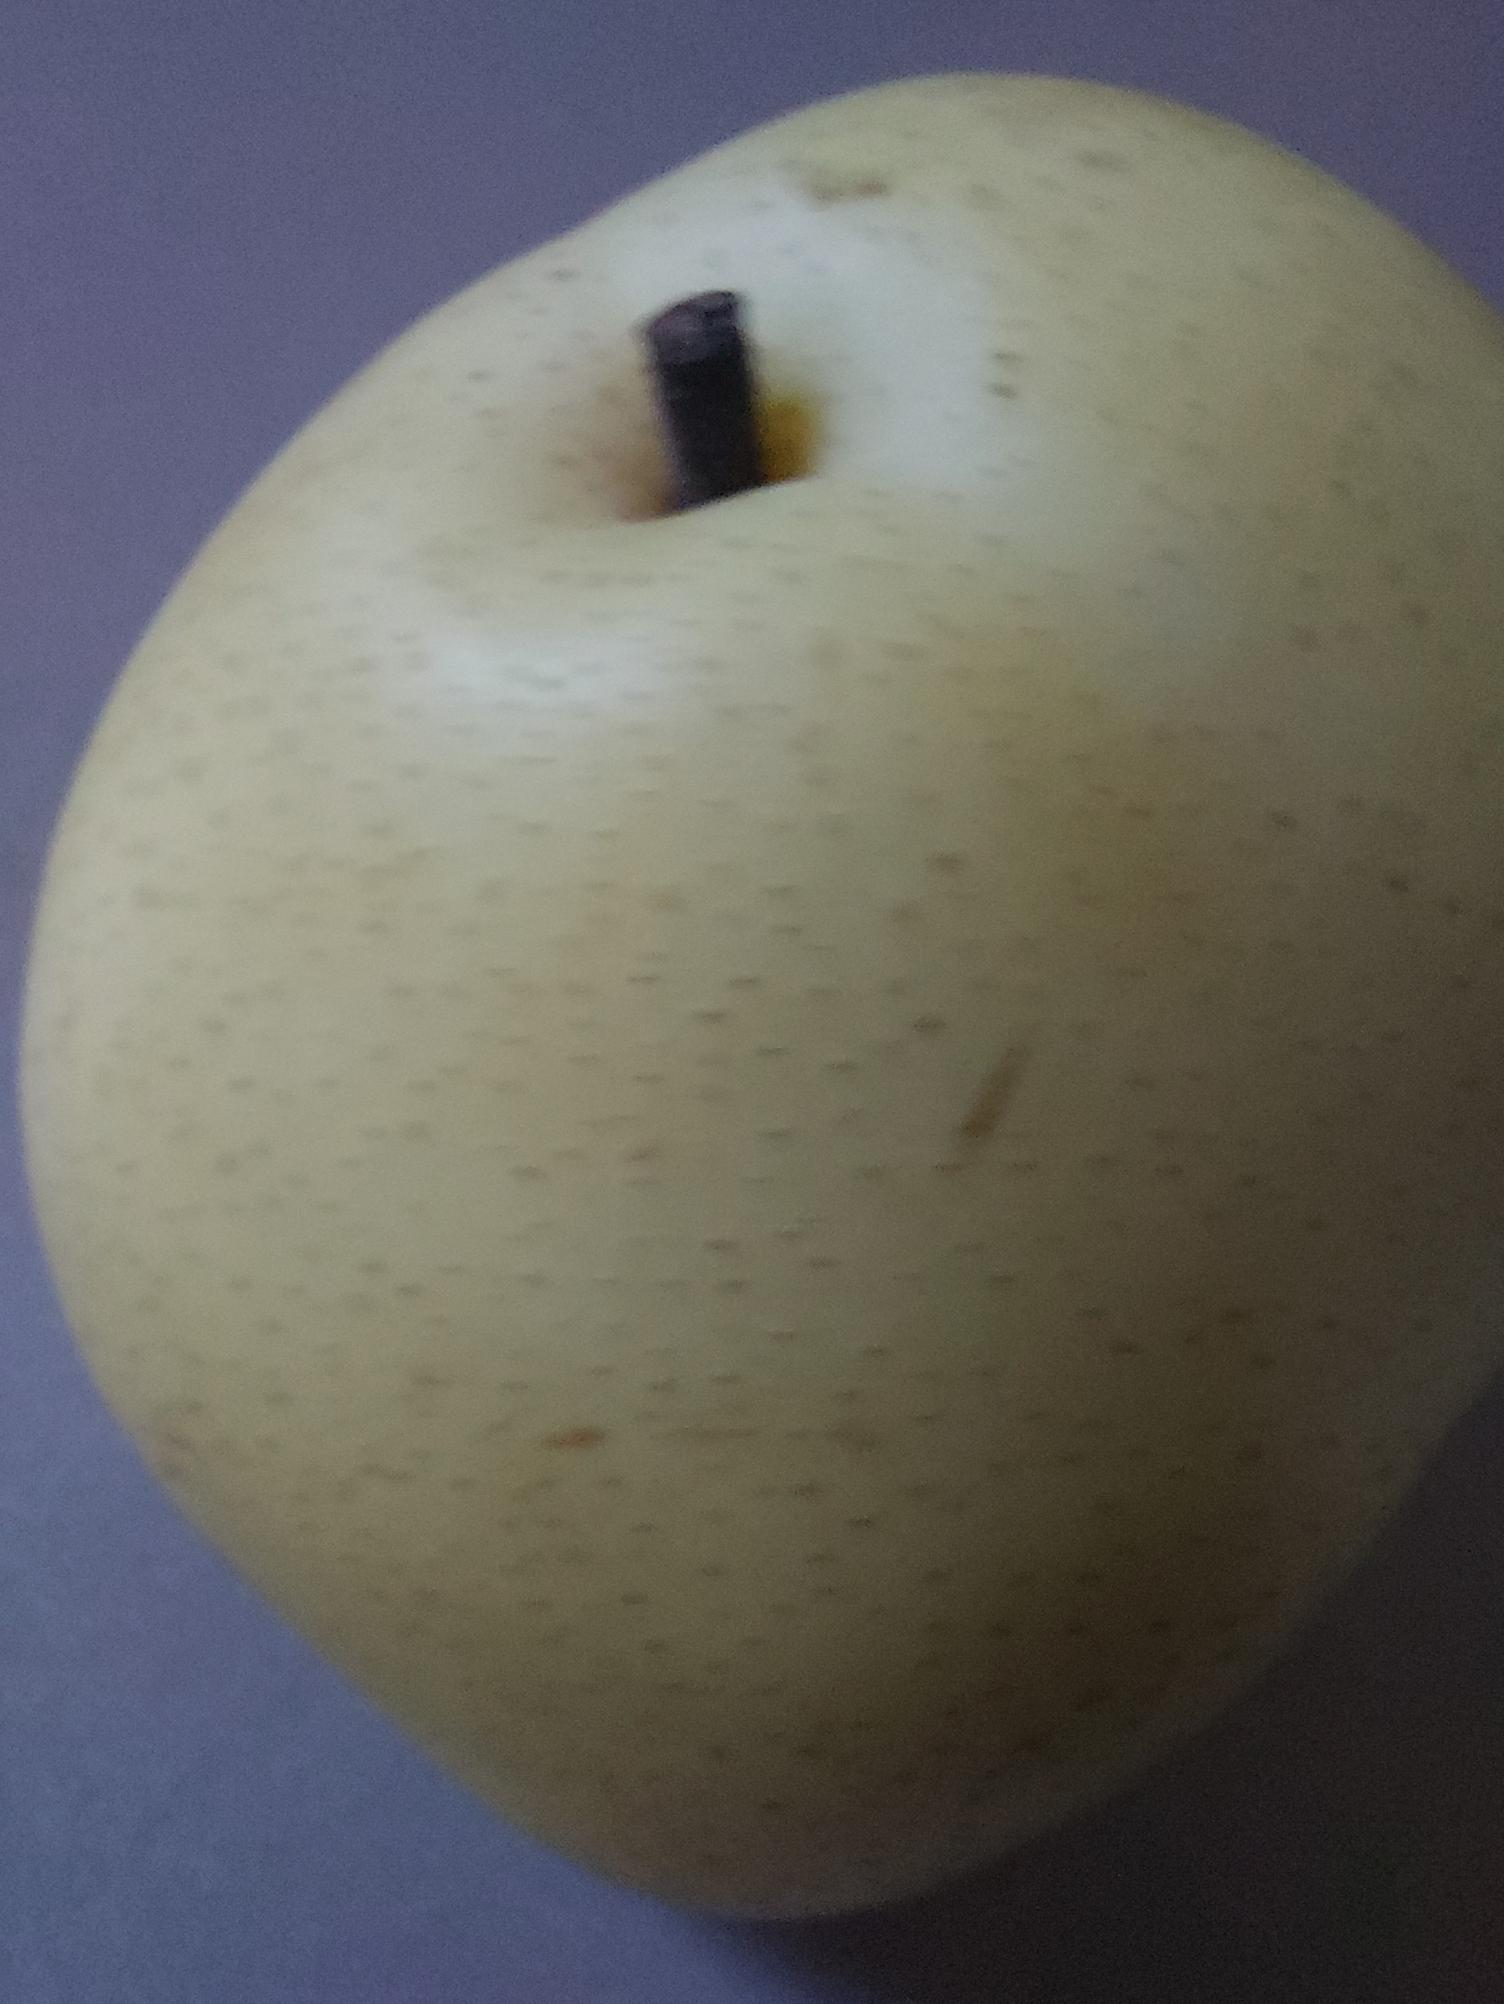Good Pear: (25, 63, 1504, 1925)
